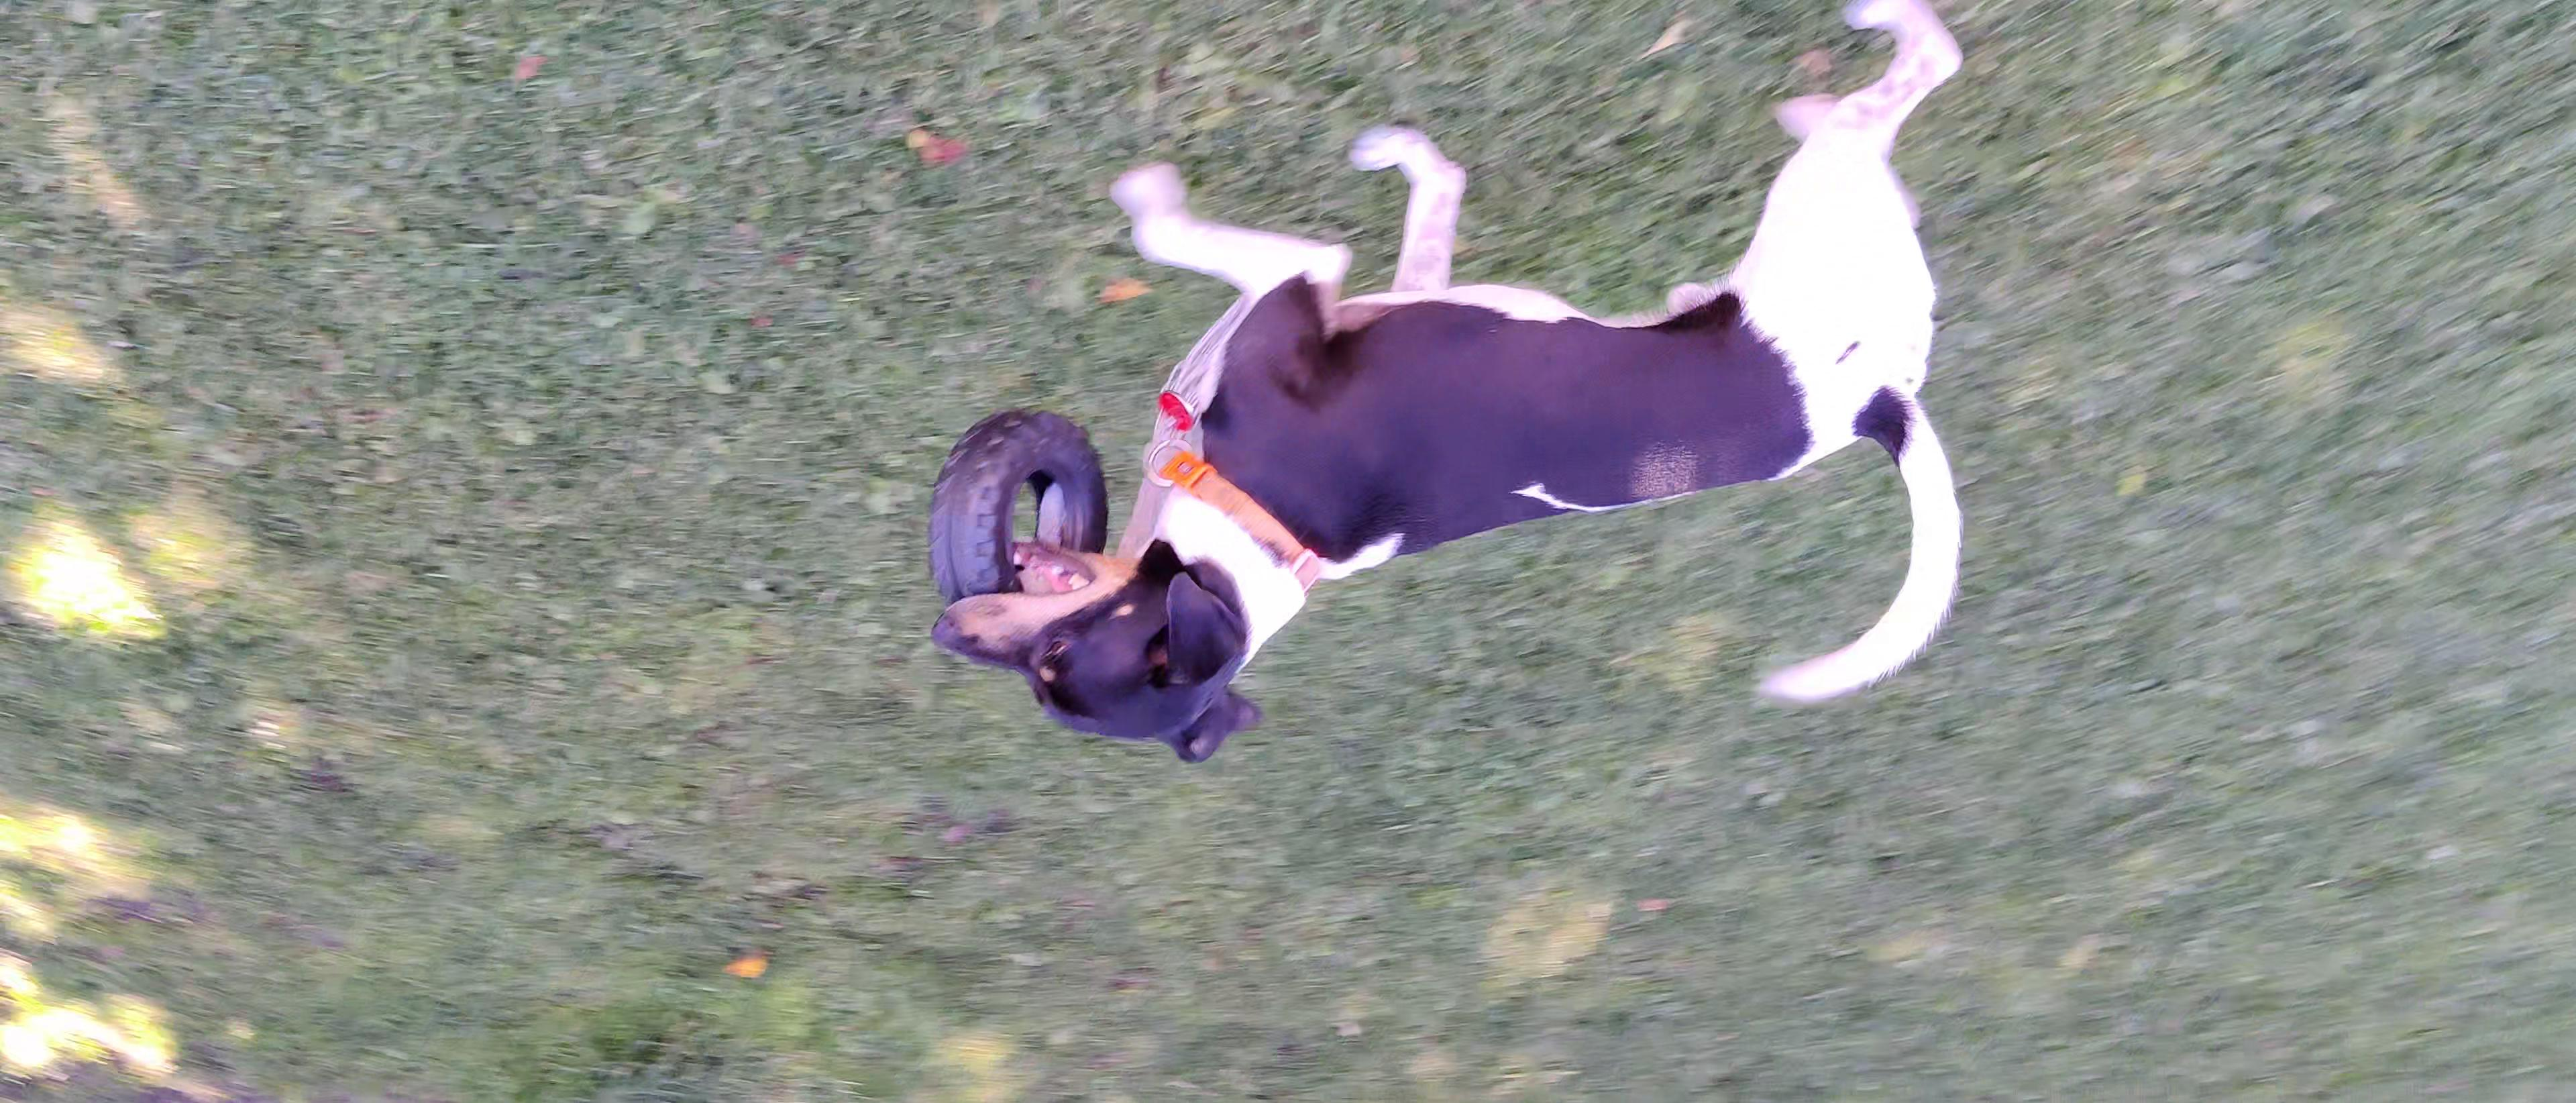Dog: (927, 0, 1970, 764)
